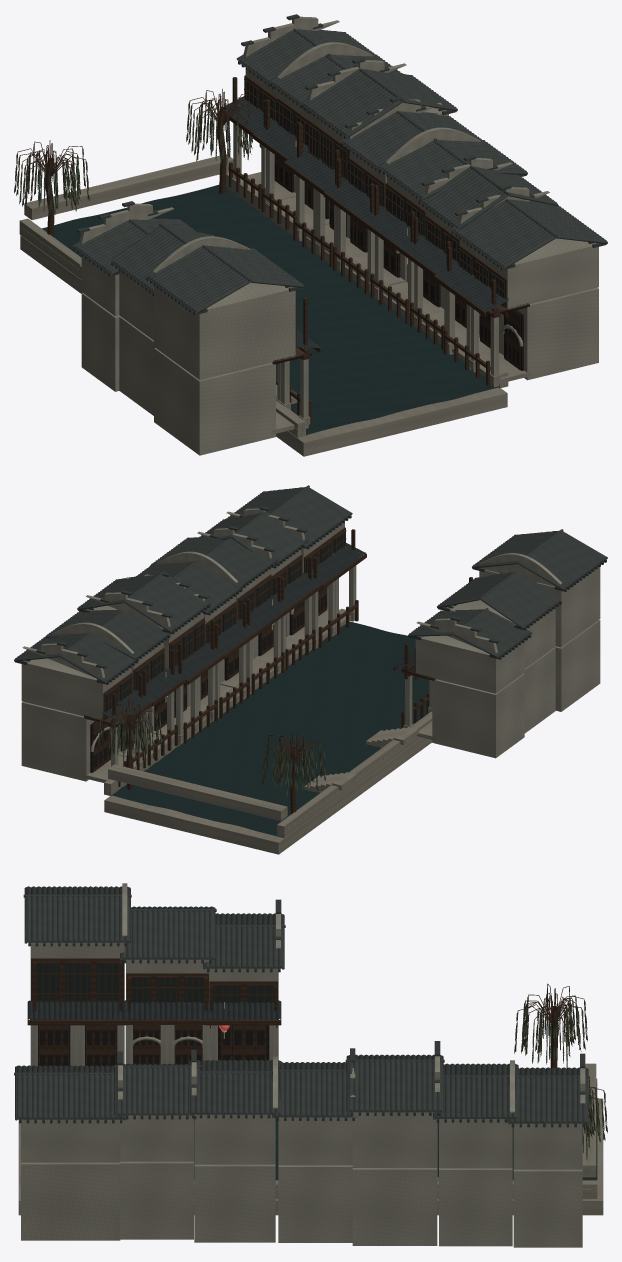
Rendered from city-nanxun.glb.
3 views of the same model, one above another, from view 1: azimuth 30°, elevation 25°; view 2: azimuth 150°, elevation 25°; view 3: azimuth 270°, elevation 25° (orthographic). The views are drawn at different scales.
Visible parts, largest first — view 1: 百间楼河有纹水面, 百间楼二层墙身.007, 沿廊后退底层墙.007, 沿廊后退底层墙, 河床, 百间楼二层墙身, 三叠马头墙_实体砖砌_合批细节, 柳树细枝与垂条_合批细节, 远端桥影, 逐行筒瓦_实体曲面错列瓦片, 逐行筒瓦_实体曲面错列瓦片.014, 逐行筒瓦_实体曲面错列瓦片.008 (+39 smaller); view 2: 百间楼河有纹水面, 沿廊后退底层墙.009, 河床, 沿廊后退底层墙.006, 百间楼二层墙身.009, 百间楼二层墙身.006, 三叠马头墙_实体砖砌_合批细节, 沿廊后退底层墙.007, 远端桥影, 柳树细枝与垂条_合批细节, 百间楼二层墙身.007, 沿河石砌护岸 (+38 smaller); view 3: 沿廊后退底层墙, 沿廊后退底层墙.004, 沿廊后退底层墙.002, 沿廊后退底层墙.003, 沿廊后退底层墙.001, 沿廊后退底层墙.005, 沿廊后退底层墙.006, 百间楼二层墙身.004, 逐行筒瓦_实体曲面错列瓦片.015, 逐行筒瓦_实体曲面错列瓦片.009, 逐行筒瓦_实体曲面错列瓦片.001, 百间楼二层墙身 (+50 smaller).
Part boxes in pixels (left/top/right/bottom): 百间楼河有纹水面: left=42, top=184, right=499, bottom=435; 百间楼二层墙身.007: left=154, top=282, right=295, bottom=379; 沿廊后退底层墙.007: left=154, top=348, right=275, bottom=455; 沿廊后退底层墙: left=479, top=287, right=598, bottom=380; 河床: left=20, top=235, right=507, bottom=456; 百间楼二层墙身: left=459, top=238, right=598, bottom=309; 三叠马头墙_实体砖砌_合批细节: left=79, top=16, right=549, bottom=244; 柳树细枝与垂条_合批细节: left=15, top=89, right=260, bottom=211; 远端桥影: left=24, top=154, right=233, bottom=219; 逐行筒瓦_实体曲面错列瓦片: left=452, top=200, right=553, bottom=266; 逐行筒瓦_实体曲面错列瓦片.014: left=147, top=246, right=247, bottom=311; 逐行筒瓦_实体曲面错列瓦片.008: left=302, top=69, right=400, bottom=135; 百间楼河有纹水面: left=111, top=621, right=429, bottom=836; 沿廊后退底层墙.009: left=432, top=673, right=524, bottom=758; 河床: left=104, top=737, right=432, bottom=854; 沿廊后退底层墙.006: left=21, top=701, right=94, bottom=781; 百间楼二层墙身.009: left=415, top=635, right=524, bottom=693; 百间楼二层墙身.006: left=21, top=658, right=131, bottom=720; 三叠马头墙_实体砖砌_合批细节: left=22, top=508, right=497, bottom=677; 沿廊后退底层墙.007: left=554, top=620, right=600, bottom=711; 远端桥影: left=108, top=764, right=287, bottom=820; 柳树细枝与垂条_合批细节: left=99, top=700, right=324, bottom=794; 百间楼二层墙身.007: left=479, top=567, right=600, bottom=647; 沿河石砌护岸: left=277, top=711, right=432, bottom=838; 沿廊后退底层墙: left=21, top=1162, right=120, bottom=1240; 沿廊后退底层墙.004: left=352, top=1168, right=437, bottom=1245; 沿廊后退底层墙.002: left=194, top=1164, right=275, bottom=1242; 沿廊后退底层墙.003: left=278, top=1165, right=352, bottom=1242; 沿廊后退底层墙.001: left=120, top=1161, right=193, bottom=1239; 沿廊后退底层墙.005: left=439, top=1168, right=512, bottom=1246; 沿廊后退底层墙.006: left=513, top=1169, right=582, bottom=1247; 百间楼二层墙身.004: left=352, top=1112, right=437, bottom=1167; 逐行筒瓦_实体曲面错列瓦片.015: left=26, top=896, right=129, bottom=941; 逐行筒瓦_实体曲面错列瓦片.009: left=348, top=1061, right=441, bottom=1110; 逐行筒瓦_实体曲面错列瓦片.001: left=16, top=1074, right=124, bottom=1118; 百间楼二层墙身: left=21, top=1119, right=120, bottom=1162.
Size of the model in its own units: 8.59 by 3.75 by 10.16.
11 materials, 9 textured.
